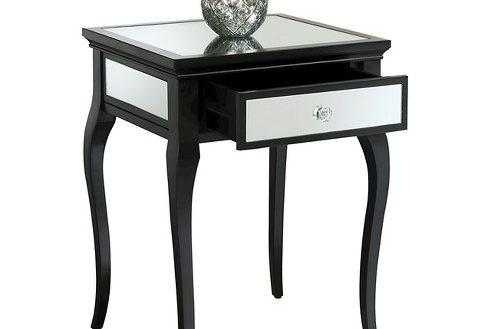obstacle: (82, 14, 406, 327), (201, 0, 267, 36)
